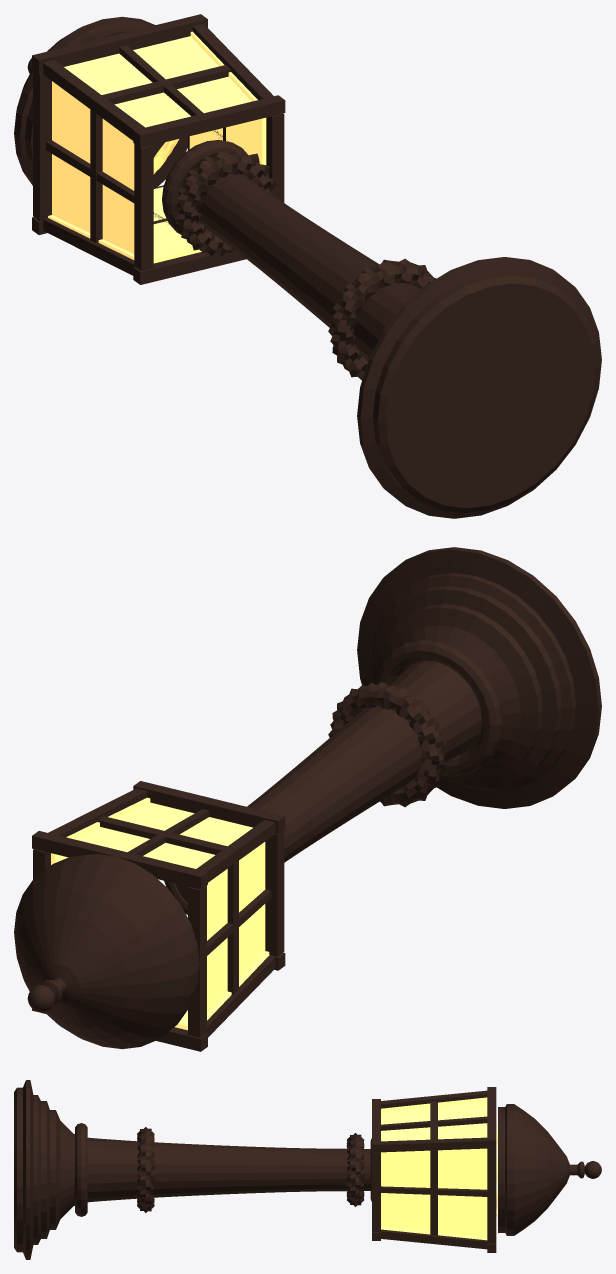
The model's file is 17-street-lamp.glb.
The picture shows the model from 3 angles, top to bottom: view 1: azimuth 30°, elevation 25°; view 2: azimuth 150°, elevation 25°; view 3: azimuth 270°, elevation 25°; orthographic projection. The views are drawn at different scales.
Visible parts, largest first — view 1: Base, Post, PaneL, PaneB, CollarTop, CollarLow, Cap, RailTopB, RailBotB, RailTopL, RailBotL, Corner-1+1 (+11 smaller); view 2: Base, Cap, Post, PaneL, BaseBead, CollarLow, PaneB, RailTopB, RailBotB, RailBotL, RailTopL, Corner-1+1 (+7 smaller); view 3: Post, Base, PaneR, Cap, PaneB, CollarLow, Corner+1+1, CollarTop, BaseBead, Corner+1-1, RailTopR, Corner-1+1 (+9 smaller).
Boxes of the visible parts, bbox=[...] form: Base: bbox=[357, 257, 601, 518]; Post: bbox=[185, 165, 420, 361]; PaneL: bbox=[52, 81, 134, 253]; PaneB: bbox=[64, 36, 251, 127]; CollarTop: bbox=[173, 148, 276, 256]; CollarLow: bbox=[328, 258, 436, 380]; Cap: bbox=[14, 16, 187, 187]; RailTopB: bbox=[32, 14, 207, 72]; RailBotB: bbox=[133, 95, 285, 148]; RailTopL: bbox=[33, 69, 51, 221]; RailBotL: bbox=[134, 144, 153, 270]; Corner-1+1: bbox=[42, 60, 153, 145]; Base: bbox=[357, 547, 601, 808]; Cap: bbox=[14, 854, 199, 1049]; Post: bbox=[175, 660, 481, 902]; PaneL: bbox=[207, 842, 265, 1012]; BaseBead: bbox=[375, 640, 502, 776]; CollarLow: bbox=[328, 682, 447, 807]; PaneB: bbox=[74, 802, 252, 868]; RailTopB: bbox=[32, 831, 207, 889]; RailBotB: bbox=[133, 781, 285, 833]; RailBotL: bbox=[265, 830, 284, 956]; RailTopL: bbox=[188, 885, 206, 1037]; Corner-1+1: bbox=[188, 820, 275, 886]; Post: bbox=[87, 1137, 370, 1202]; Base: bbox=[14, 1080, 74, 1259]; PaneR: bbox=[381, 1148, 487, 1237]; Cap: bbox=[498, 1104, 569, 1235]; PaneB: bbox=[381, 1101, 487, 1152]; CollarLow: bbox=[137, 1127, 154, 1212]; Corner+1+1: bbox=[381, 1137, 487, 1152]; CollarTop: bbox=[346, 1133, 364, 1206]; BaseBead: bbox=[75, 1123, 87, 1216]; Corner+1-1: bbox=[381, 1229, 487, 1249]; RailTopR: bbox=[487, 1148, 496, 1243]; Corner-1+1: bbox=[381, 1090, 487, 1108].
Size of the model in its own units: 1.2 by 1.2 by 3.92.
